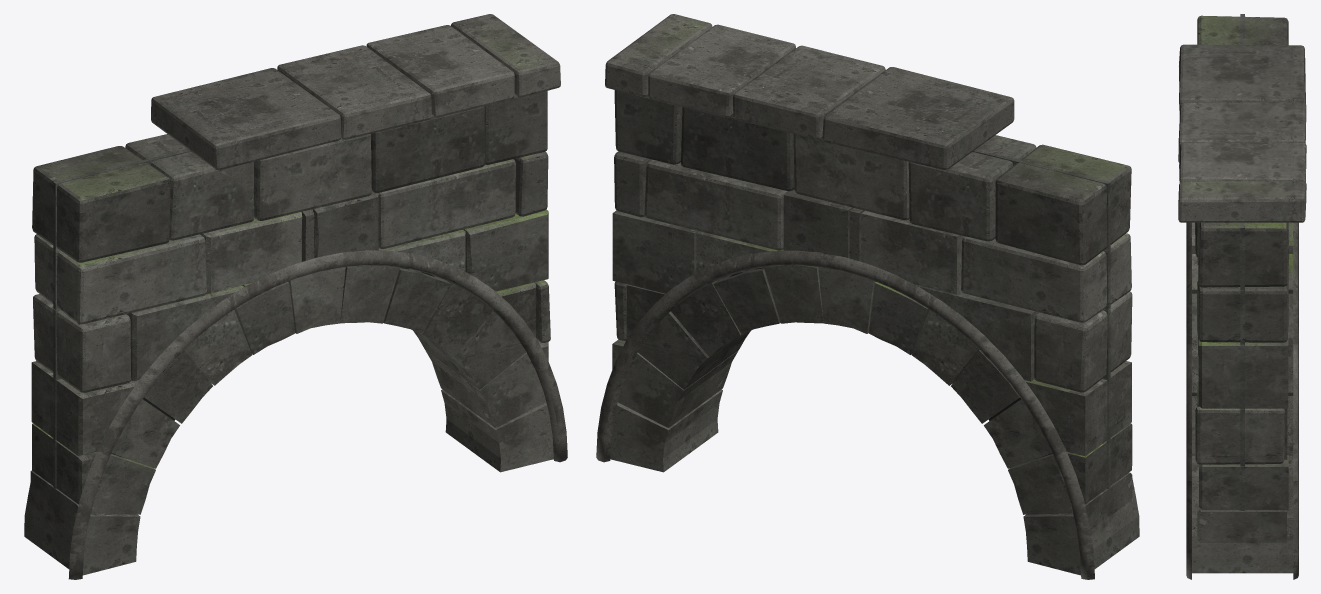
Rendered from ER_Ecoincon_Arc_4m4.gltf.
3 views of the same model, side by side, from view 1: azimuth 30°, elevation 25°; view 2: azimuth 150°, elevation 25°; view 3: azimuth 270°, elevation 25° (orthographic). The views are drawn at different scales.
Visible parts, largest first — view 1: ER_Ecoincon_Arc_4m4_P.001, ER_Ecoincon_Arc_4m4_MOUL.001, ER_Ecoincon_Arc_4m4_PS.001; view 2: ER_Ecoincon_Arc_4m4_P.001, ER_Ecoincon_Arc_4m4_MOUL.001, ER_Ecoincon_Arc_4m4_PS.001; view 3: ER_Ecoincon_Arc_4m4_P.001, ER_Ecoincon_Arc_4m4_MOUL.001, ER_Ecoincon_Arc_4m4_PS.001.
Boxes of the visible parts, left/top/right/bottom form: ER_Ecoincon_Arc_4m4_P.001: left=24, top=91, right=553, bottom=575; ER_Ecoincon_Arc_4m4_MOUL.001: left=68, top=14, right=567, bottom=579; ER_Ecoincon_Arc_4m4_PS.001: left=53, top=149, right=190, bottom=488; ER_Ecoincon_Arc_4m4_P.001: left=610, top=90, right=1139, bottom=575; ER_Ecoincon_Arc_4m4_MOUL.001: left=596, top=14, right=1094, bottom=579; ER_Ecoincon_Arc_4m4_PS.001: left=972, top=149, right=1110, bottom=488; ER_Ecoincon_Arc_4m4_P.001: left=1192, top=15, right=1293, bottom=573; ER_Ecoincon_Arc_4m4_MOUL.001: left=1178, top=44, right=1306, bottom=579; ER_Ecoincon_Arc_4m4_PS.001: left=1240, top=14, right=1244, bottom=510.
Size of the model in its own units: 4.64 by 3.59 by 1.11.
4 materials, 3 textured.
